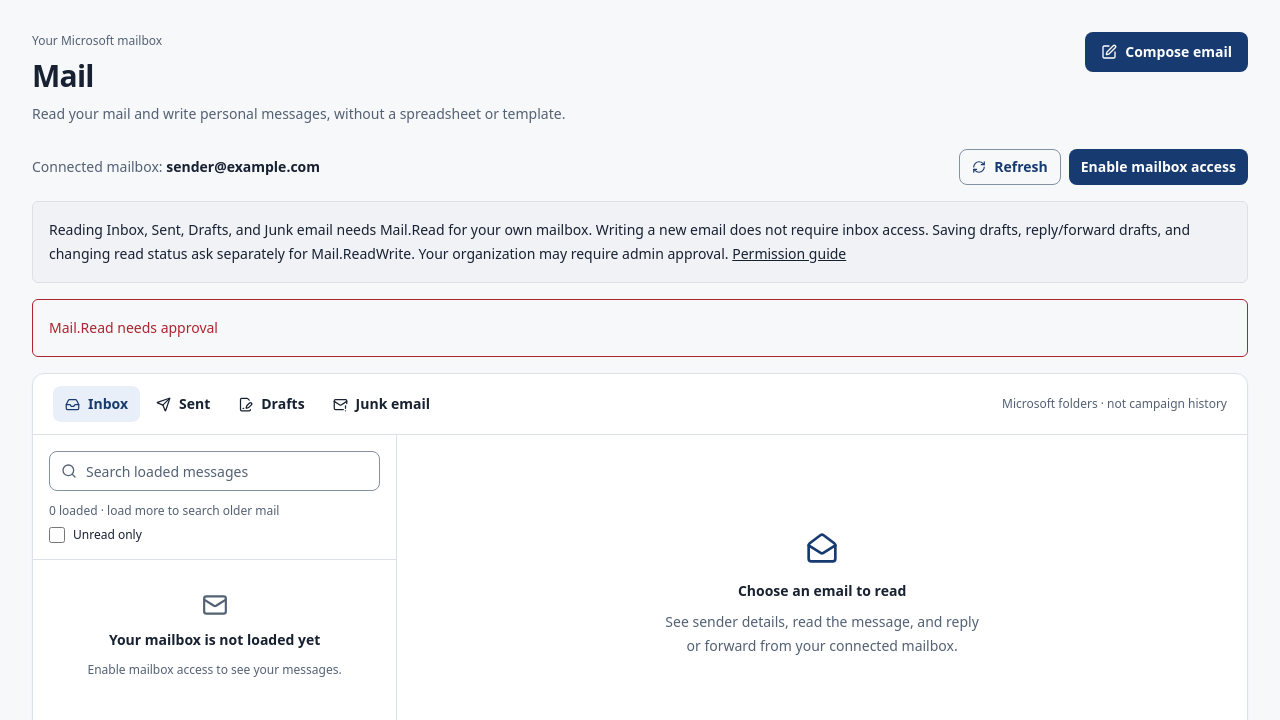
mail workspace › allows composing from Inbox even when reading permission is denied
Expected: the message "Mail.Read needs approval" is shown, [32, 299, 1248, 357]
Click the button "Compose email": (1167, 52) [1085, 32, 1248, 72]
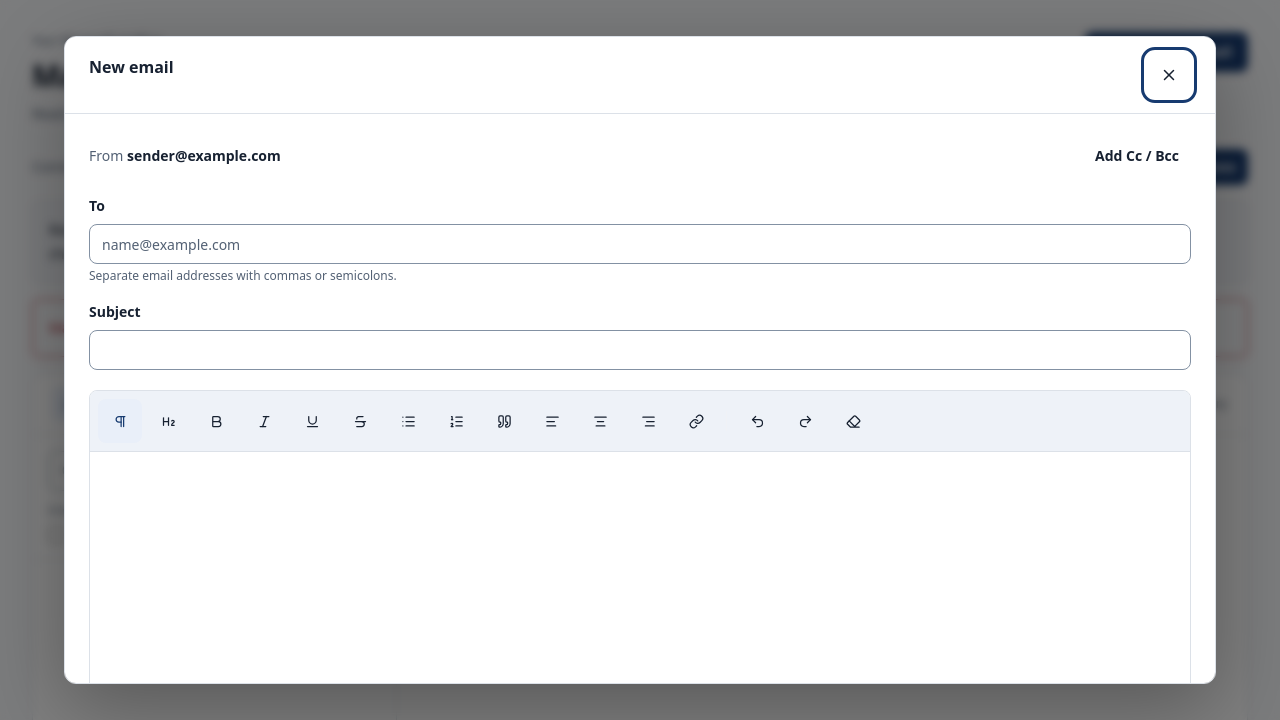
Result: the dialog "New email" is shown
